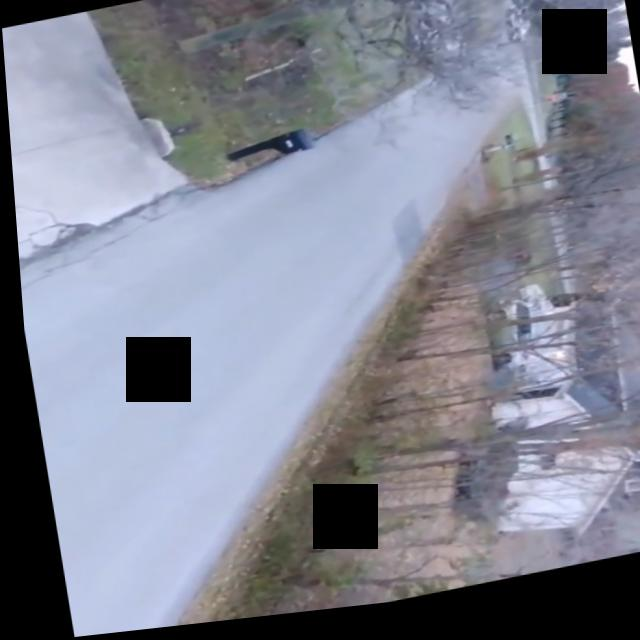Pole: (166, 0, 619, 60)
Tree: (129, 0, 636, 172), (332, 379, 640, 513), (444, 156, 640, 262)
Vehicle: (474, 305, 533, 384)
